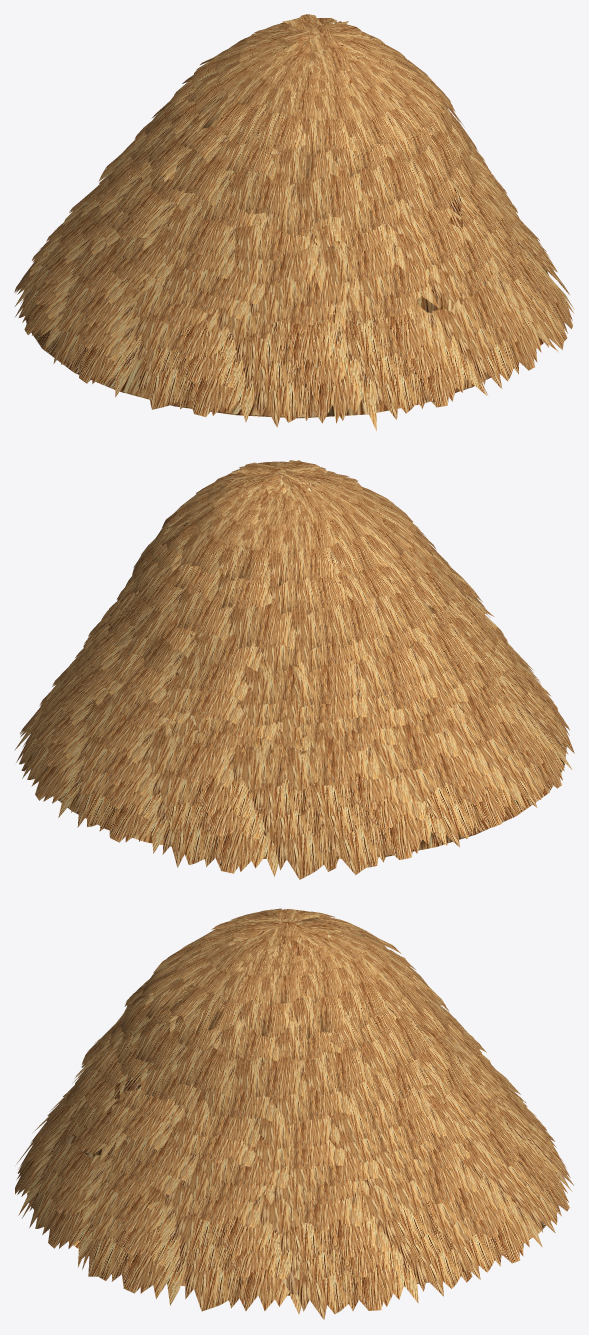
The model's file is hay.glb.
3 views of the same model, one above another, from view 1: azimuth 30°, elevation 25°; view 2: azimuth 150°, elevation 25°; view 3: azimuth 270°, elevation 25° (orthographic).
Bounding box in the file's own units: 1.26 × 0.7098 × 1.25.
1 material, 1 textured.
